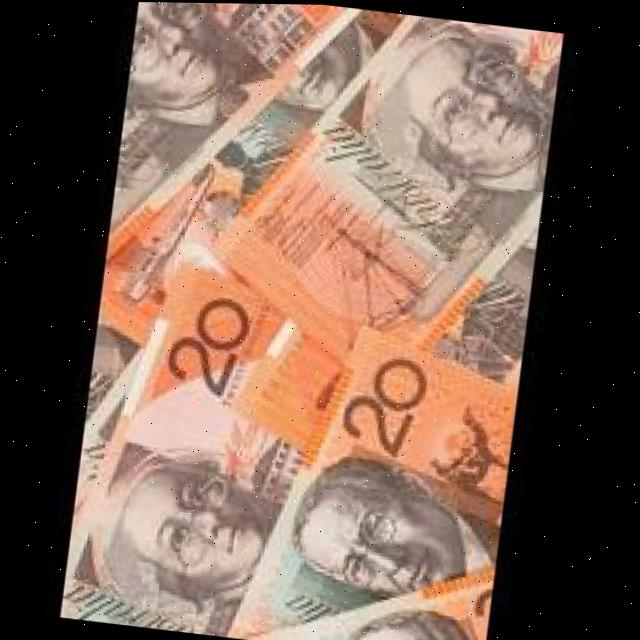banknote: (197, 2, 563, 401), (57, 247, 378, 640), (93, 1, 401, 389), (224, 309, 521, 640), (102, 1, 355, 275), (226, 522, 498, 640)
